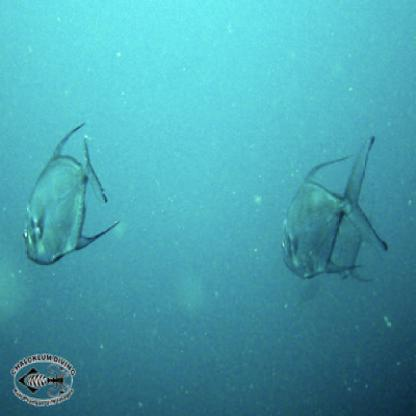Bio: (276, 133, 402, 284), (18, 110, 136, 269)
